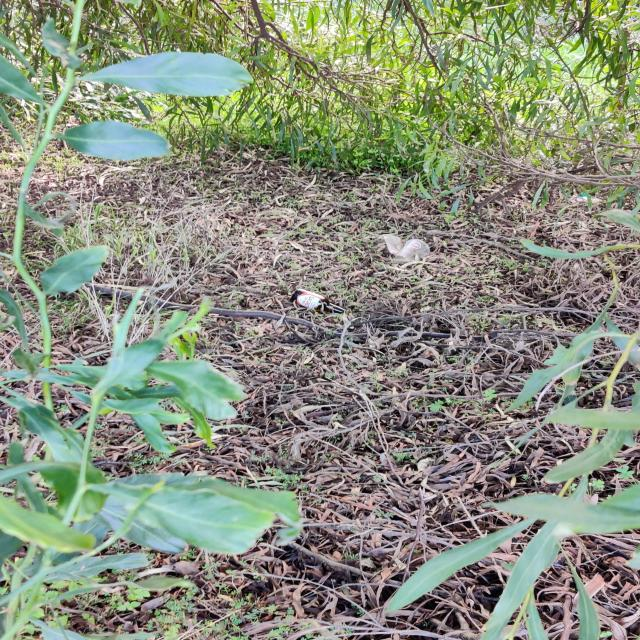litter: (364, 217, 475, 275), (273, 282, 355, 322)
